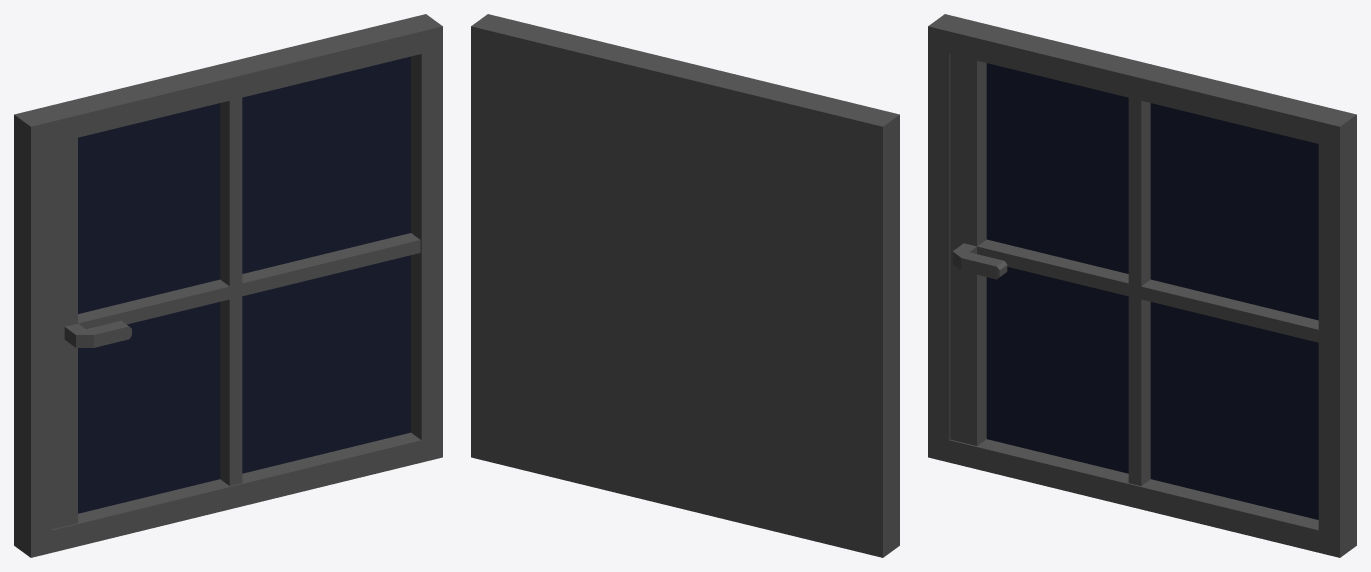
Rendered from Windowver2.fbx.
3 renders of one model, left to right at view 1: azimuth 30°, elevation 25°; view 2: azimuth 150°, elevation 25°; view 3: azimuth 330°, elevation 25°, orthographic.
Visible parts, largest first — view 1: Cube; view 2: Cube; view 3: Cube.
Boxes of the visible parts, box(x1,y1,x2,y2) form: Cube: box(14, 14, 442, 557); Cube: box(471, 14, 899, 557); Cube: box(928, 14, 1356, 557).
Size of the model in its own units: 200 by 200 by 26.62.
